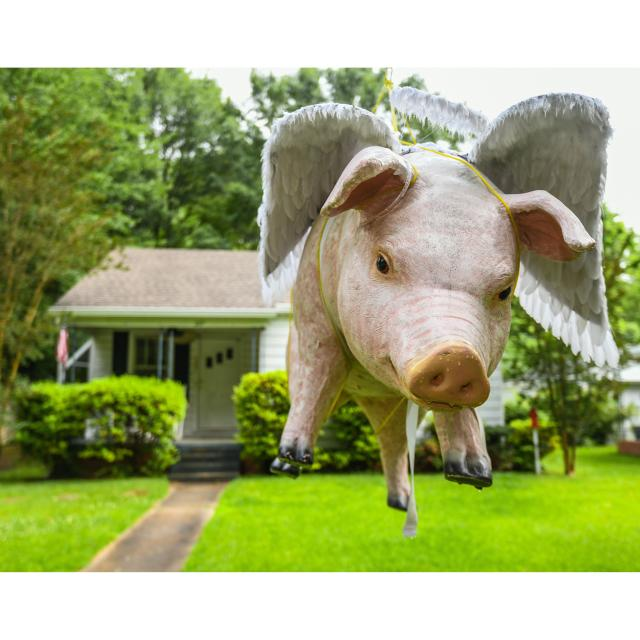Pig: (248, 84, 626, 520)
